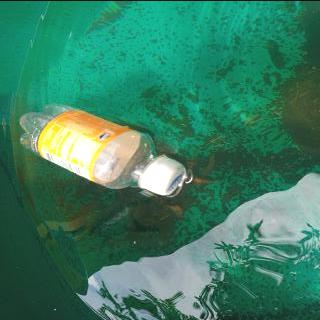bottle: (13, 102, 190, 197)
